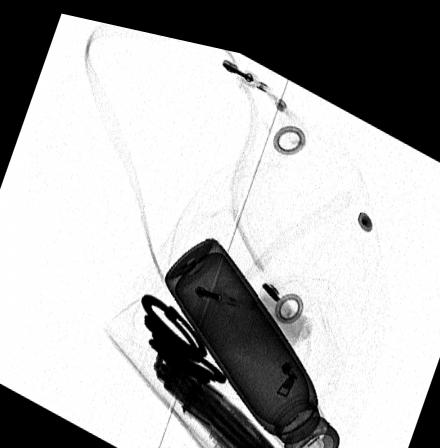HandCuffs: (140, 287, 227, 375)
